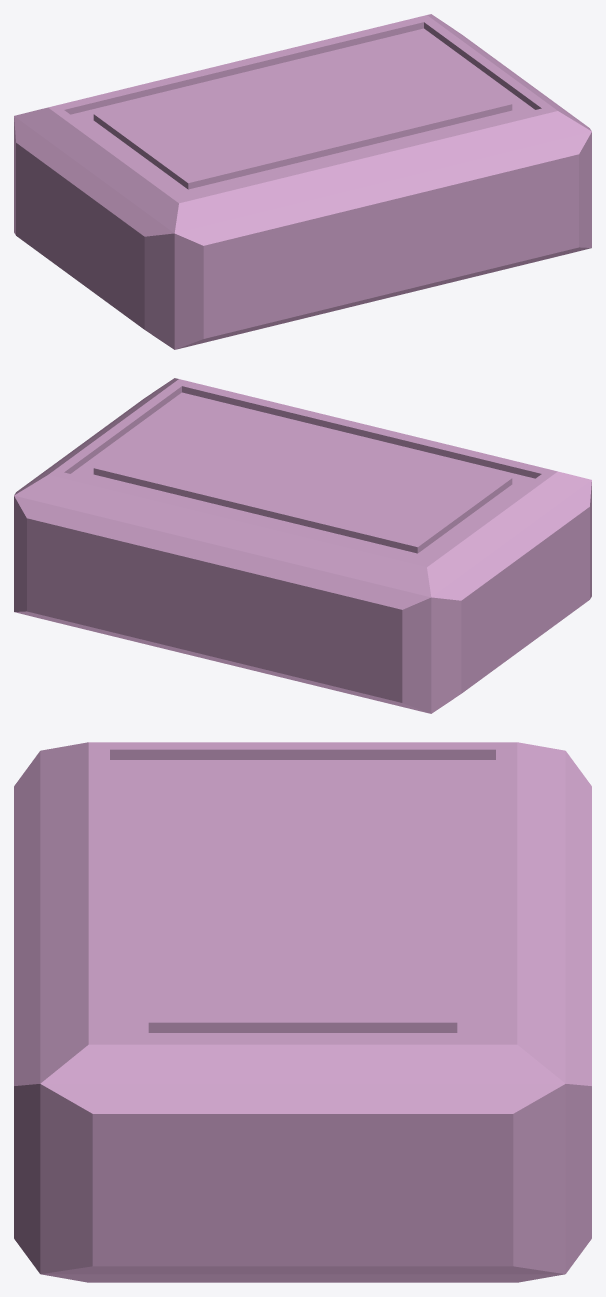
File: Soap Bar.fbx
3 views of the same model, one above another, from view 1: azimuth 30°, elevation 25°; view 2: azimuth 150°, elevation 25°; view 3: azimuth 270°, elevation 25° (orthographic). The views are drawn at different scales.
Visible parts, largest first — view 1: Soap Bar; view 2: Soap Bar; view 3: Soap Bar.
Part boxes in pixels (left/top/right/bottom): Soap Bar: left=14, top=14, right=591, bottom=349; Soap Bar: left=14, top=378, right=591, bottom=713; Soap Bar: left=14, top=742, right=591, bottom=1282.
Bounding box in the file's own units: 96 × 30 × 66.
